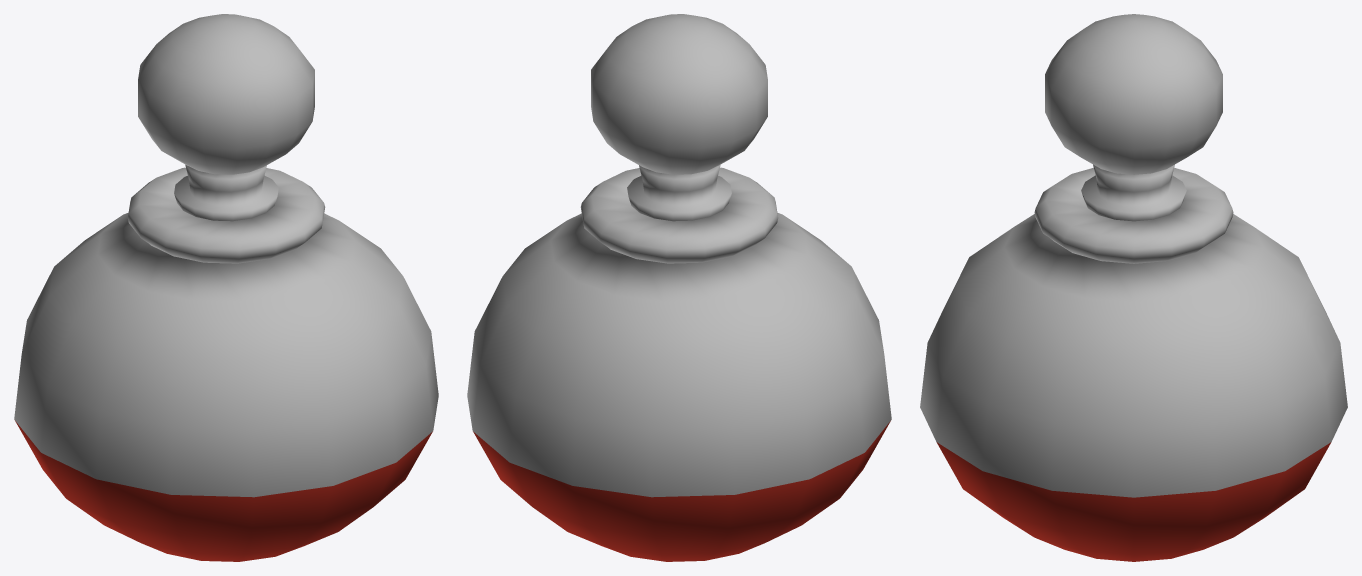
The model's file is Pocion.fbx.
3 views of the same model, side by side, from view 1: azimuth 30°, elevation 25°; view 2: azimuth 150°, elevation 25°; view 3: azimuth 270°, elevation 25° (orthographic).
Parts seen in each view (by area): view 1: Sphere.001; view 2: Sphere.001; view 3: Sphere.001.
Boxes of the visible parts, left/top/right/bottom form: Sphere.001: left=14, top=14, right=438, bottom=561; Sphere.001: left=467, top=14, right=891, bottom=561; Sphere.001: left=920, top=14, right=1347, bottom=561.
Bounding box in the file's own units: 220 × 294 × 220.
